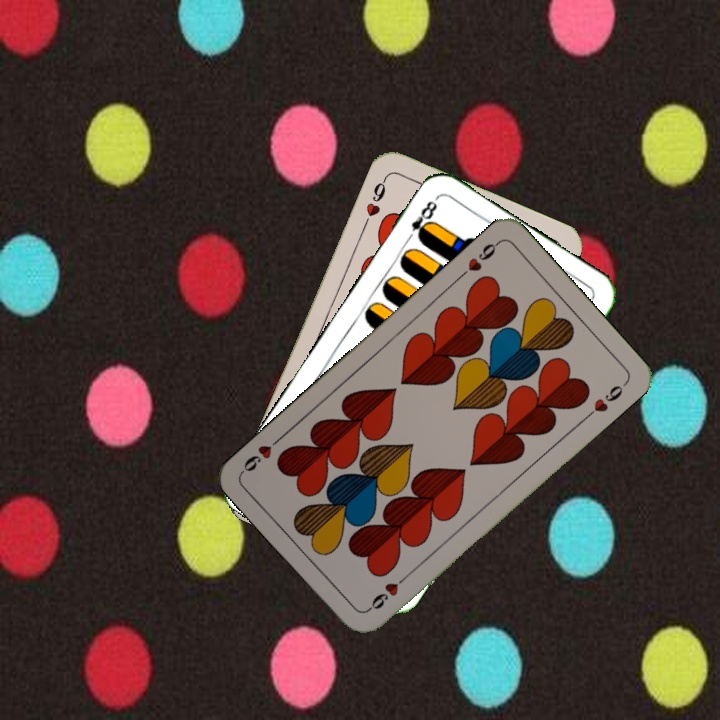E8: (402, 193, 441, 245)
H9: (455, 237, 503, 281), (363, 570, 411, 614), (359, 173, 390, 229)
